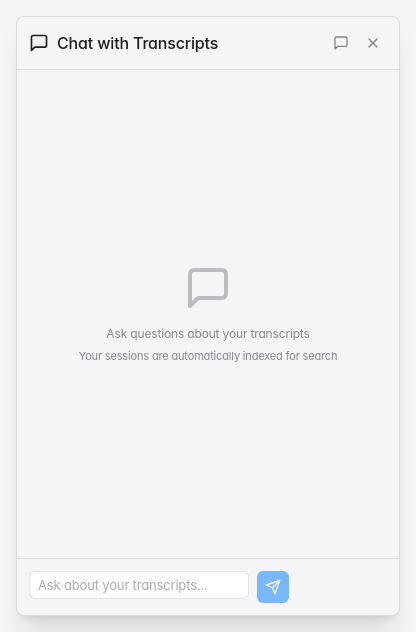
Scenario: ChatPanel › Conversations List › should toggle conversations view
Click the button named "Conversations" at (341, 43), box [327, 29, 355, 57]
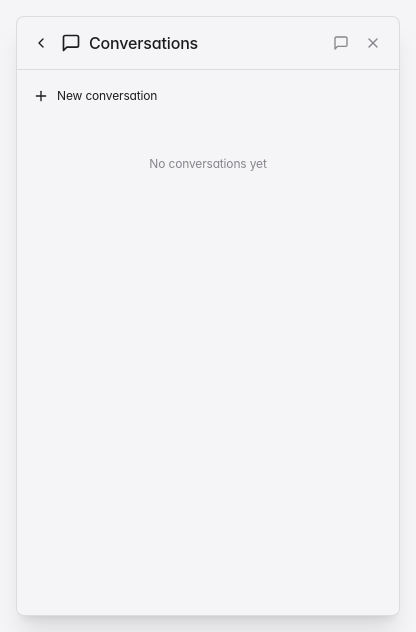
Now the text "Conversations" is shown, box [89, 31, 198, 55]
